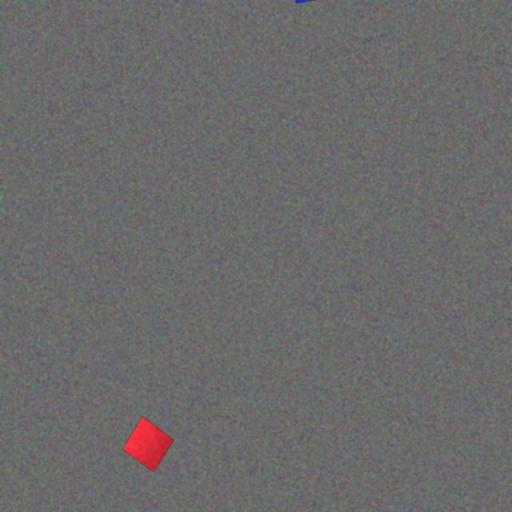RED_SQUARE: (122, 415, 174, 473)
